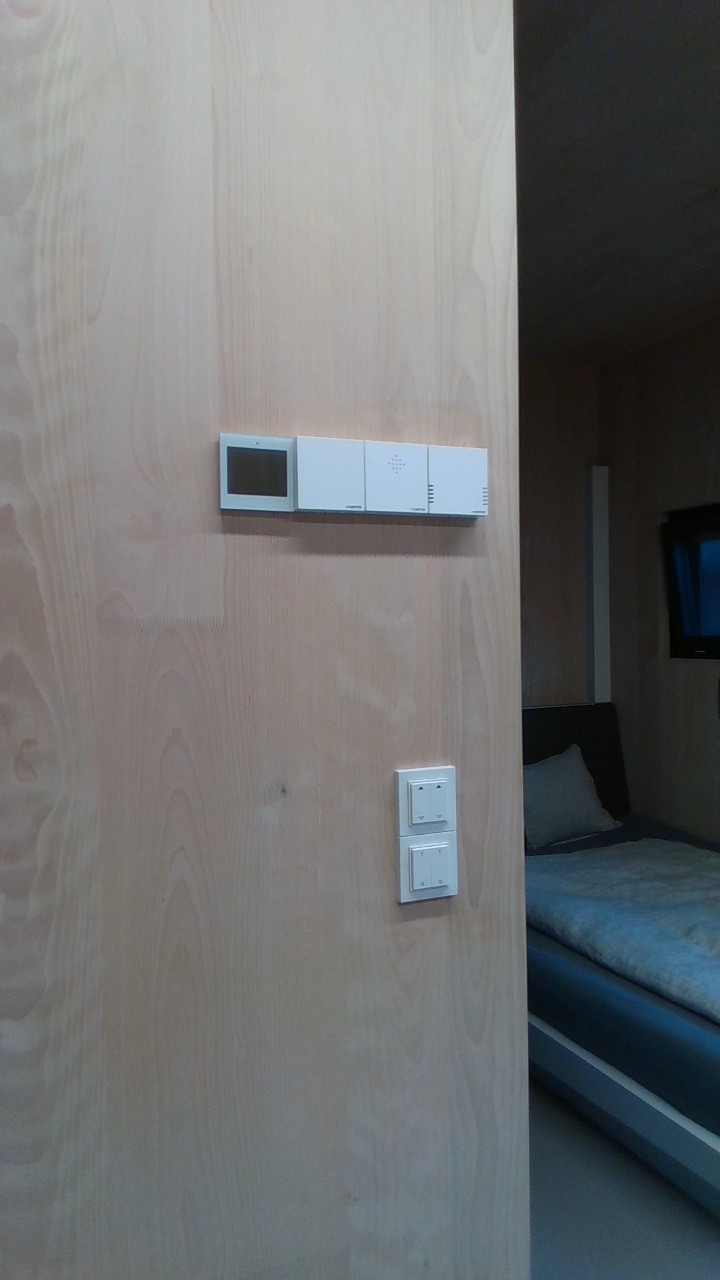Light_Switch: (403, 834, 456, 898), (400, 771, 457, 830)
